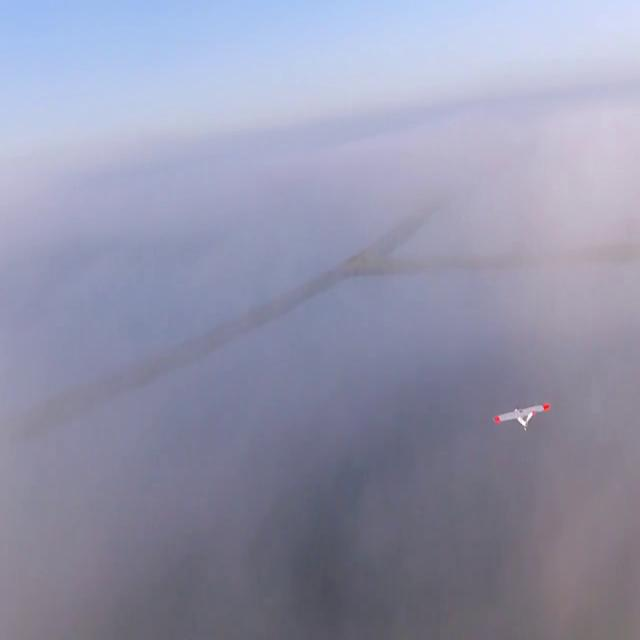iha: (488, 402, 545, 436)
